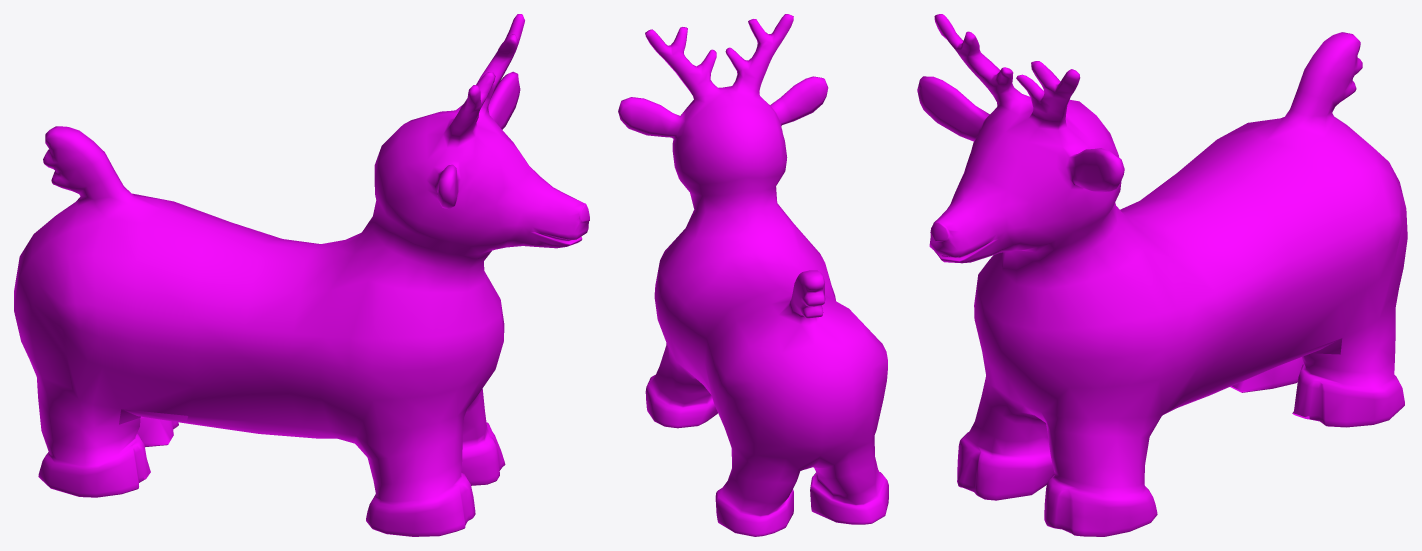
Rendered from 012-wanju03.FBX.
3 views of the same model, side by side, from view 1: azimuth 30°, elevation 25°; view 2: azimuth 150°, elevation 25°; view 3: azimuth 270°, elevation 25° (orthographic). The views are drawn at different scales.
Visible parts, largest first — view 1: 012-wanju03; view 2: 012-wanju03; view 3: 012-wanju03.
Part boxes in pixels (x1,y1,x2,y2): 012-wanju03: (14, 14, 589, 536); 012-wanju03: (618, 14, 888, 536); 012-wanju03: (917, 14, 1407, 536).
Bounding box in the file's own units: 60.67 × 64.96 × 60.67.
